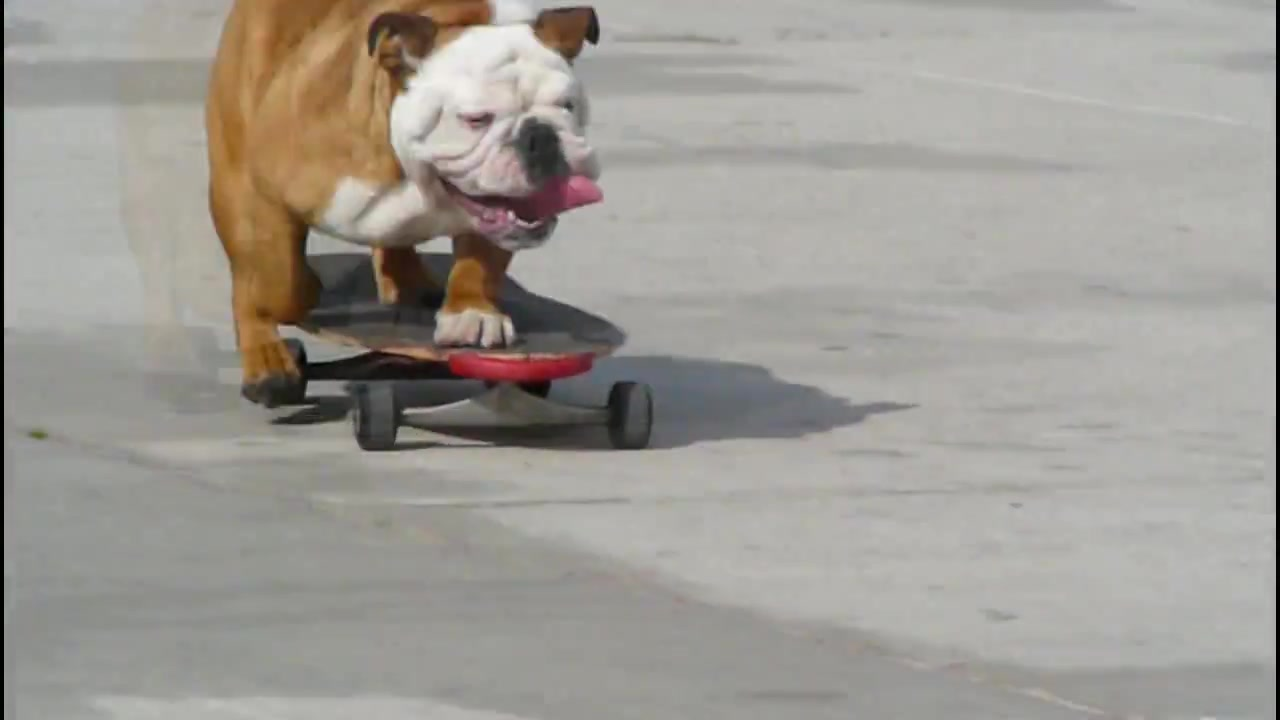dog: (202, 1, 610, 414)
